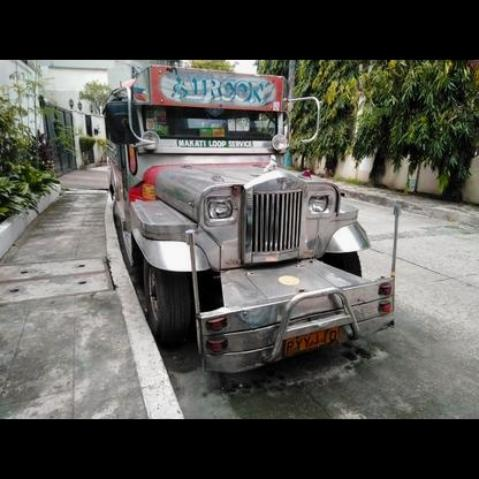jeepney: (80, 69, 421, 375)
